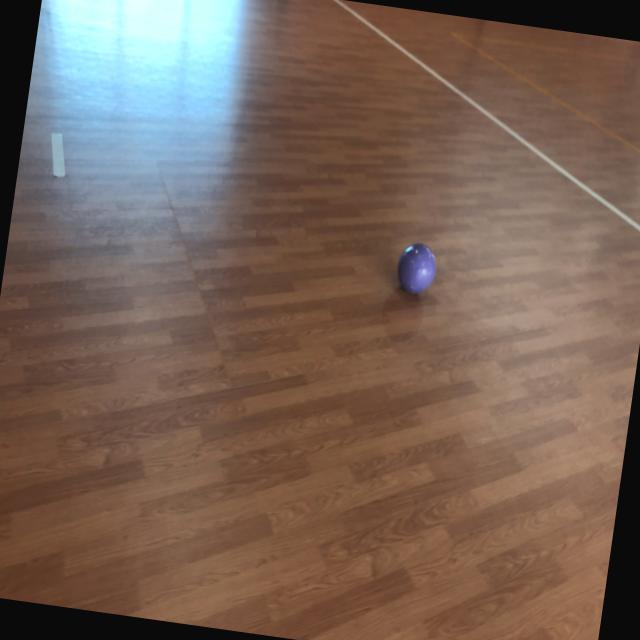purple_ball: (394, 242, 440, 296)
